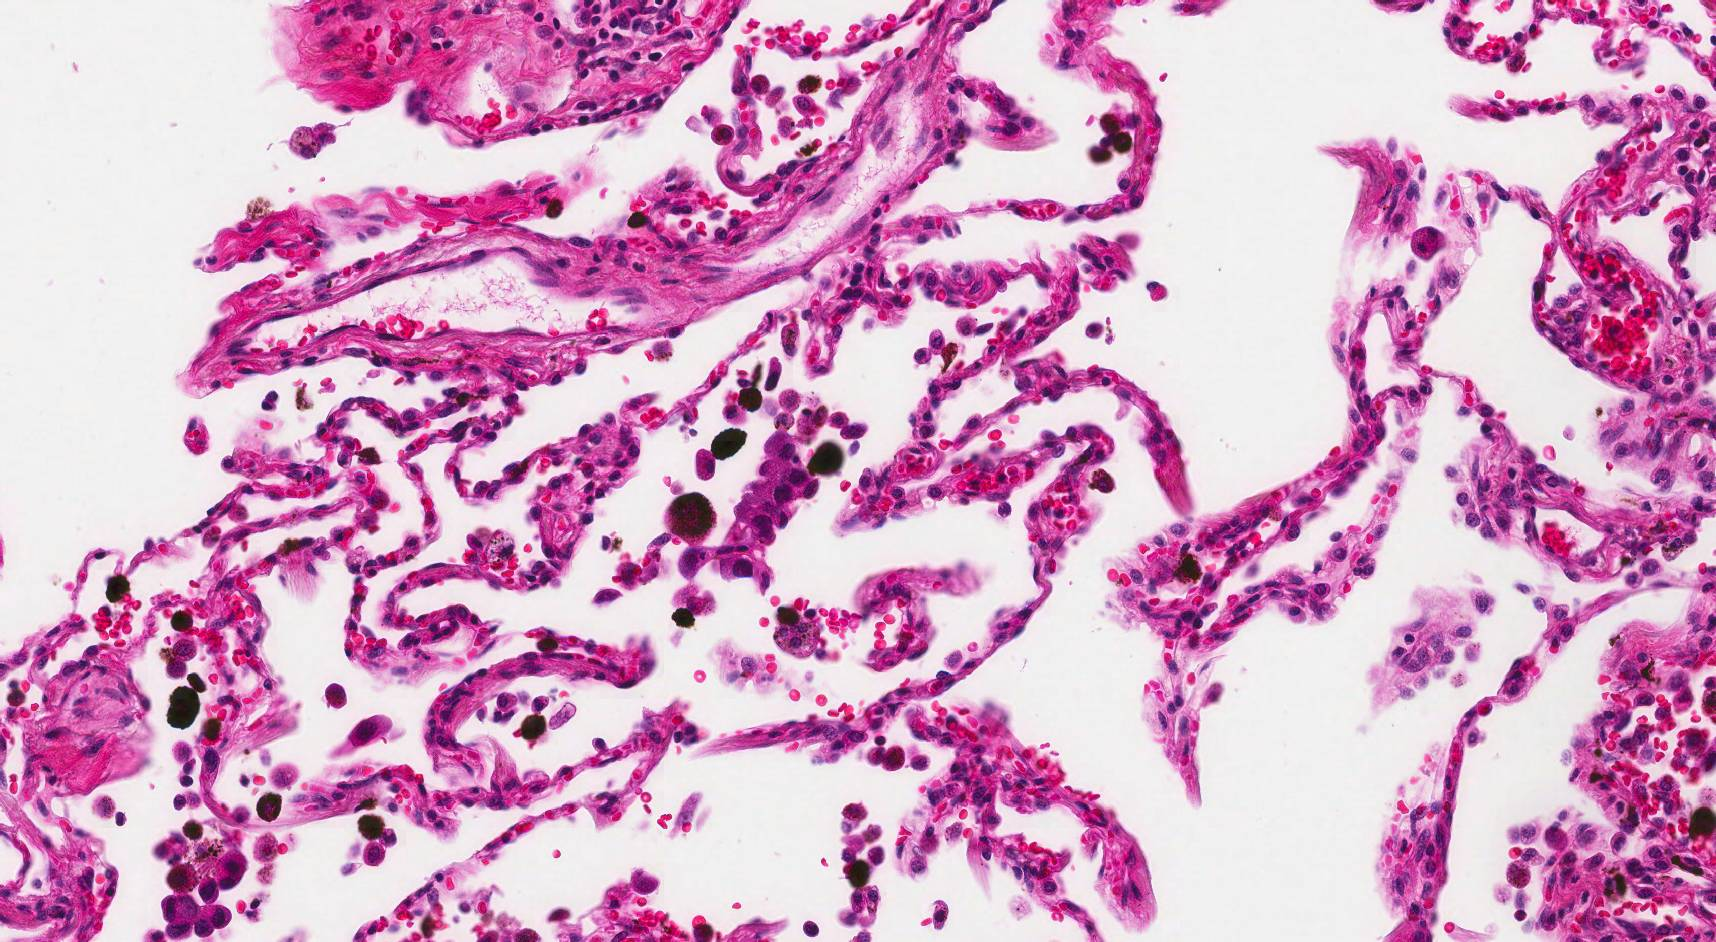stas: (677, 432, 822, 592)
